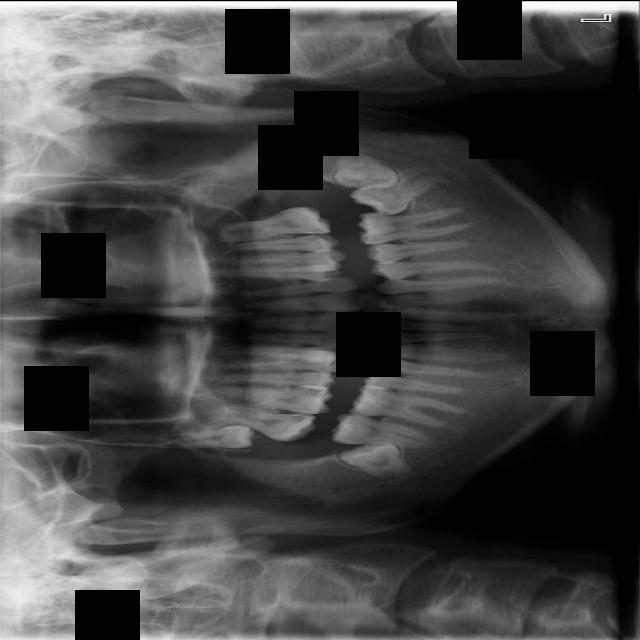3M ESPE Implant: (185, 424, 255, 447)
73: (568, 30, 594, 42)
Biomet 3i Implant: (333, 149, 400, 192)
Blue Sky Bio Implant: (348, 157, 449, 227)
Caries: (216, 401, 316, 444)
Implant: (330, 411, 437, 448)
Keystone Dental Implant: (339, 431, 414, 483)
